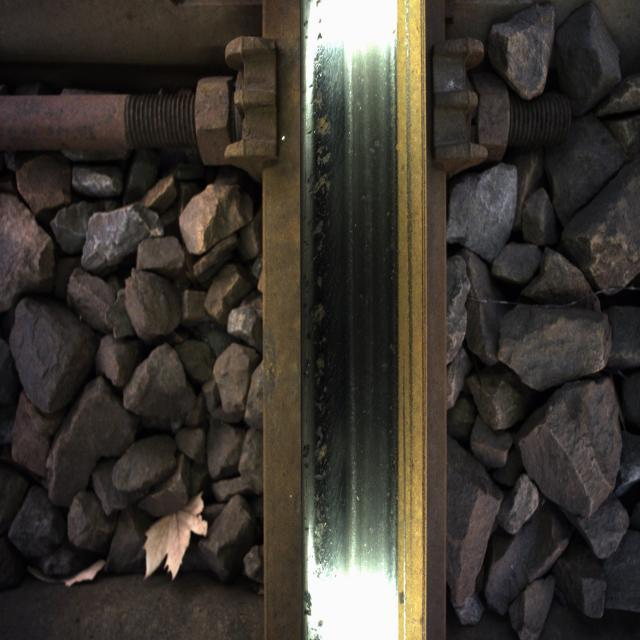crack: (301, 0, 360, 561)
